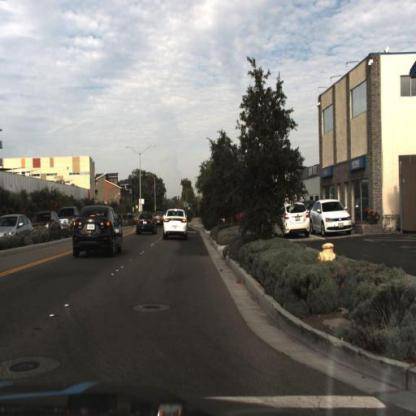car: (70, 203, 123, 261), (310, 198, 355, 240), (274, 199, 311, 240), (1, 214, 35, 245), (161, 208, 191, 243), (29, 210, 62, 238), (134, 208, 162, 241), (57, 203, 81, 236), (32, 210, 63, 233)
